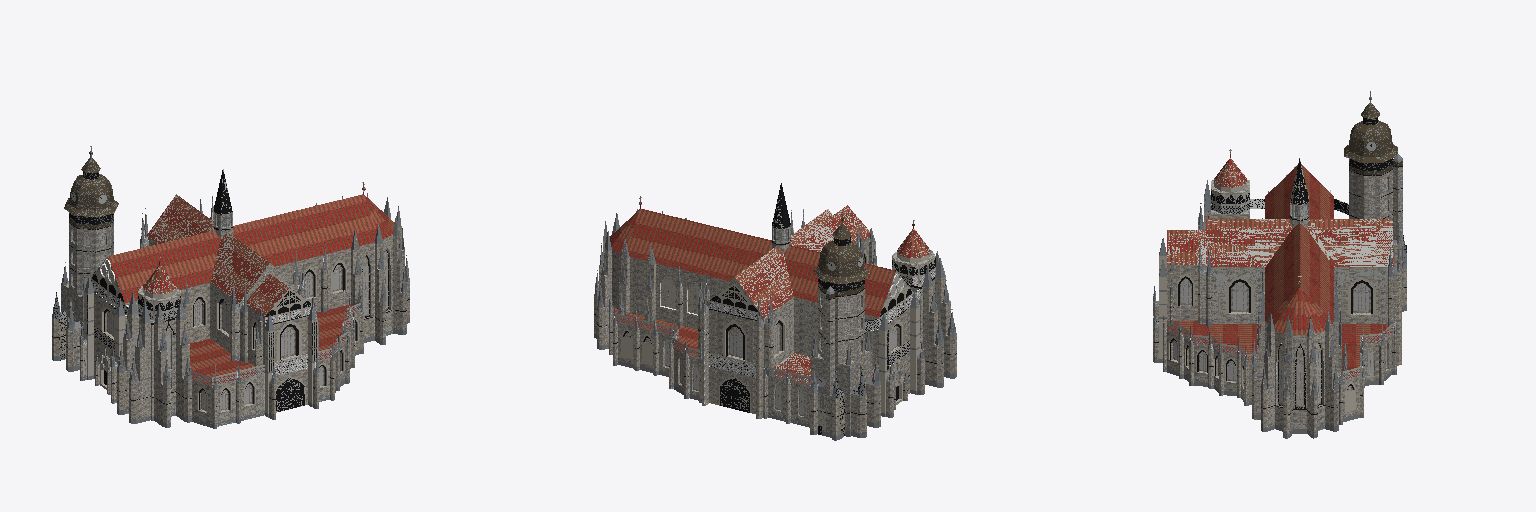
3 renders of one model, left to right at view 1: azimuth 30°, elevation 25°; view 2: azimuth 150°, elevation 25°; view 3: azimuth 270°, elevation 25°, orthographic.
Parts seen in each view (by area): view 1: Mesh266 Model, Mesh59 velka_veza1 Model, Mesh102 mala_dvojveza2 trojveza1 Model, Mesh107 mala_dvojveza3 trojveza2 Model, Mesh94 mala_dvojveza1 Model, Mesh112 mala_dvojveza4 trojveza3 Model, Mesh144 okno_velke12 Model, Mesh99 veza_uzka_vysoka_bez_okien2 trojveza1 Model, Mesh32 hlavna_veza___bocna_veza11 velka_veza1 Model, Mesh34 hlavna_veza___bocna_veza12 velka_veza1 Model, Mesh169 mala_dvojveza7 trojveza6 Model, Mesh143 veza_uzka_vysoka3 Model (+6 smaller); view 2: Mesh266 Model, Mesh59 velka_veza1 Model, Mesh94 mala_dvojveza1 Model, Mesh102 mala_dvojveza2 trojveza1 Model, Mesh91 veza_uzka_vysoka1 Model, Mesh32 hlavna_veza___bocna_veza11 velka_veza1 Model, Mesh208 okno_velke22 Model, Mesh258 hlavna_veza___bocna_veza_1_2 Model, Mesh34 hlavna_veza___bocna_veza12 velka_veza1 Model, Mesh184 mala_dvojveza10 trojveza9 Model, Mesh254 hlavna_veza___bocna_veza_1_1 Model, Mesh96 veza_uzka_vysoka_bez_okien1 Model (+2 smaller); view 3: Mesh266 Model, Mesh59 velka_veza1 Model, Mesh192 okno_velke19 Model, Mesh240 okno_velke24 Model, Mesh254 hlavna_veza___bocna_veza_1_1 Model, Mesh169 mala_dvojveza7 trojveza6 Model, Mesh184 mala_dvojveza10 trojveza9 Model, Mesh174 mala_dvojveza8 trojveza7 Model, Mesh179 mala_dvojveza9 trojveza8 Model, Mesh189 okno_male_2_4 Model, Mesh143 veza_uzka_vysoka3 Model, Mesh164 mala_dvojveza6 trojveza5 Model (+2 smaller).
Part boxes in pixels (x1,y1,x2,y2): Mesh266 Model: (84,169,394,427); Mesh59 velka_veza1 Model: (61,158,118,326); Mesh102 mala_dvojveza2 trojveza1 Model: (129,346,144,423); Mesh107 mala_dvojveza3 trojveza2 Model: (158,349,170,427); Mesh94 mala_dvojveza1 Model: (117,337,131,414); Mesh112 mala_dvojveza4 trojveza3 Model: (180,344,191,422); Mesh144 okno_velke12 Model: (277,321,301,360); Mesh99 veza_uzka_vysoka_bez_okien2 trojveza1 Model: (140,302,150,421); Mesh32 hlavna_veza___bocna_veza11 velka_veza1 Model: (52,293,66,360); Mesh34 hlavna_veza___bocna_veza12 velka_veza1 Model: (66,306,81,371); Mesh169 mala_dvojveza7 trojveza6 Model: (397,258,406,334); Mesh143 veza_uzka_vysoka3 Model: (308,303,317,406); Mesh266 Model: (610,183,935,427); Mesh59 velka_veza1 Model: (811,224,871,437); Mesh94 mala_dvojveza1 Model: (929,310,943,387); Mesh102 mala_dvojveza2 trojveza1 Model: (941,300,956,378); Mesh91 veza_uzka_vysoka1 Model: (910,290,919,394); Mesh32 hlavna_veza___bocna_veza11 velka_veza1 Model: (851,372,866,437); Mesh208 okno_velke22 Model: (723,321,746,360); Mesh258 hlavna_veza___bocna_veza_1_2 Model: (756,301,763,418); Mesh34 hlavna_veza___bocna_veza12 velka_veza1 Model: (866,360,880,427); Mesh184 mala_dvojveza10 trojveza9 Model: (597,273,607,349); Mesh254 hlavna_veza___bocna_veza_1_1 Model: (702,287,708,405); Mesh96 veza_uzka_vysoka_bez_okien1 Model: (923,266,932,384); Mesh266 Model: (1167,158,1392,430); Mesh59 velka_veza1 Model: (1344,103,1402,245); Mesh192 okno_velke19 Model: (1226,276,1253,313); Mesh240 okno_velke24 Model: (1348,277,1375,314); Mesh254 hlavna_veza___bocna_veza_1_1 Model: (1393,247,1401,365); Mesh169 mala_dvojveza7 trojveza6 Model: (1261,355,1270,431); Mesh184 mala_dvojveza10 trojveza9 Model: (1329,355,1338,431); Mesh174 mala_dvojveza8 trojveza7 Model: (1283,362,1291,438); Mesh179 mala_dvojveza9 trojveza8 Model: (1309,361,1317,438); Mesh189 okno_male_2_4 Model: (1295,344,1305,408); Mesh143 veza_uzka_vysoka3 Model: (1159,260,1166,362); Mesh164 mala_dvojveza6 trojveza5 Model: (1252,345,1260,419).
Size of the model in its own units: 73.56 by 47.65 by 51.72.
11 materials, 3 textured.